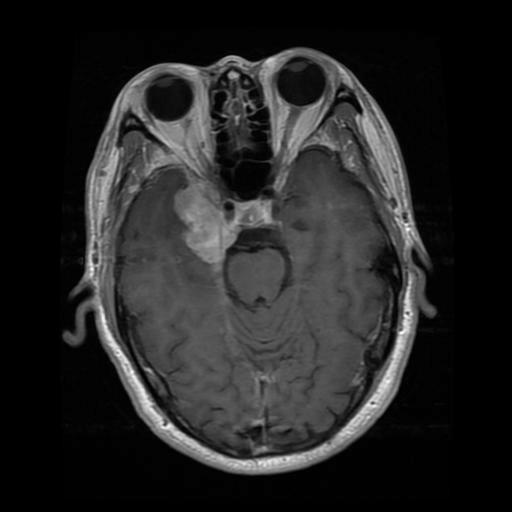Tumour-Meningioma: (160, 175, 242, 274)
